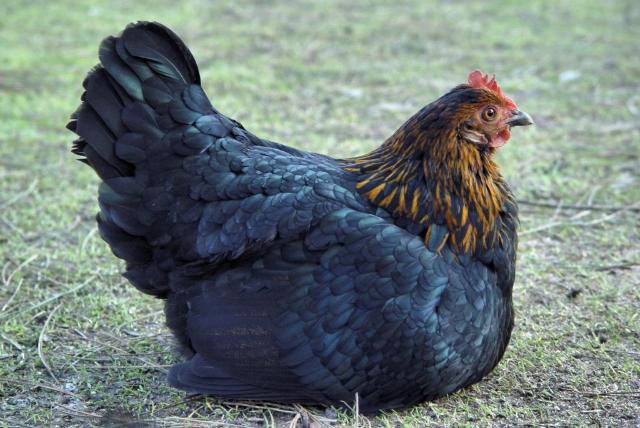Chicken: (66, 18, 533, 412)
